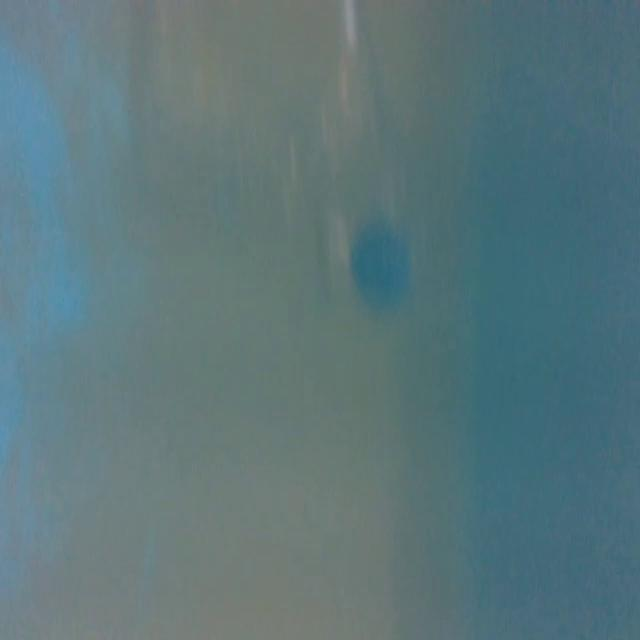plastic bottle: (291, 0, 432, 333)
